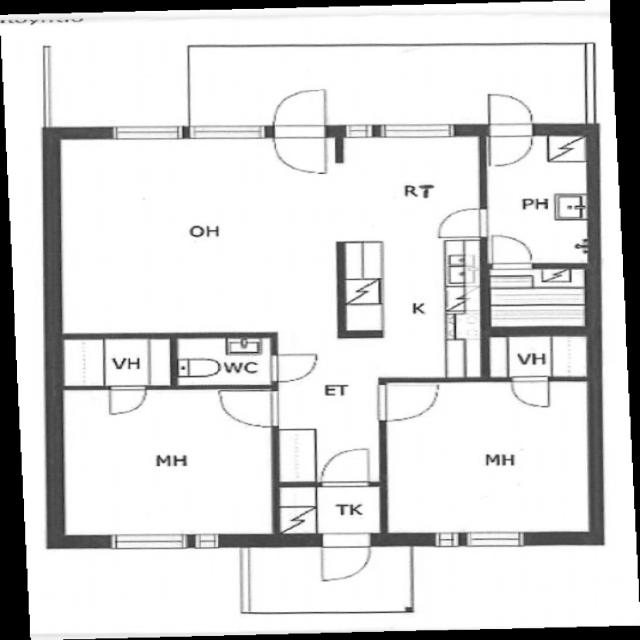door: (483, 264, 595, 329), (266, 86, 334, 177), (175, 334, 272, 388), (478, 89, 542, 170), (374, 380, 445, 426), (316, 531, 376, 585), (212, 386, 283, 430), (314, 445, 376, 489), (430, 204, 498, 244), (260, 349, 324, 386), (484, 233, 536, 270), (506, 374, 554, 412), (104, 384, 149, 418)
window: (52, 133, 342, 333), (116, 116, 256, 141), (369, 116, 466, 144), (98, 528, 200, 554), (181, 119, 273, 143), (455, 526, 534, 552), (102, 120, 192, 142), (339, 120, 377, 140)
zone: (53, 136, 344, 332), (336, 137, 484, 388), (385, 372, 597, 538), (59, 385, 274, 536), (484, 130, 592, 268), (484, 264, 594, 332), (53, 338, 179, 388), (174, 334, 276, 388)
